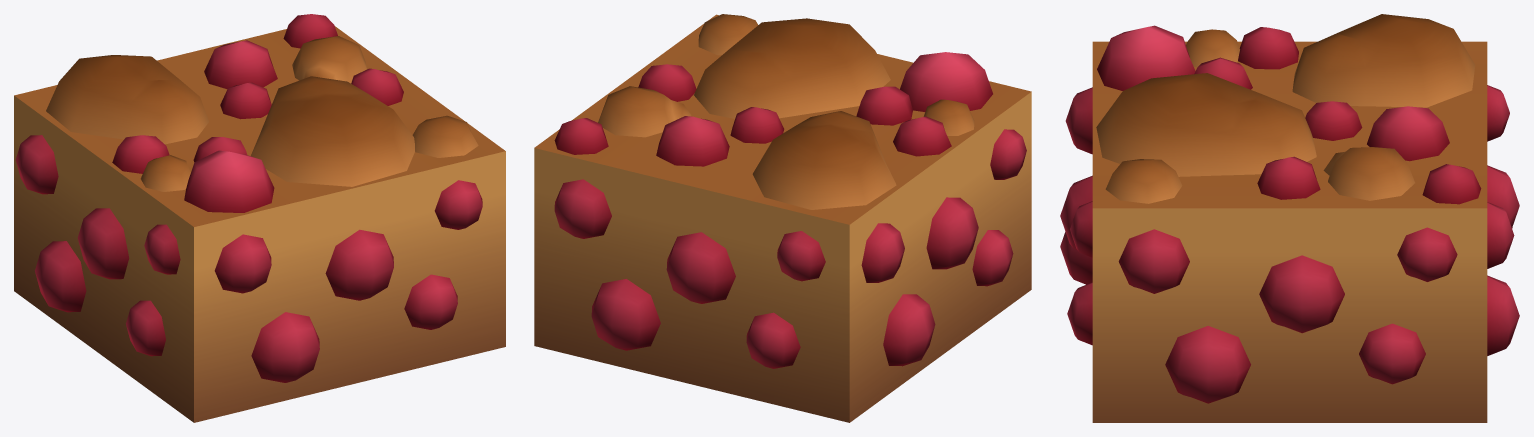
The model's file is m_SheetCake04_Slice03.fbx.
3 views of the same model, side by side, from view 1: azimuth 30°, elevation 25°; view 2: azimuth 150°, elevation 25°; view 3: azimuth 270°, elevation 25° (orthographic). The views are drawn at different scales.
Visible parts, largest first — view 1: m_SheetCake04_Slice03; view 2: m_SheetCake04_Slice03; view 3: m_SheetCake04_Slice03.
Part boxes in pixels (<box>): m_SheetCake04_Slice03: <box>14,14,505,422</box>; m_SheetCake04_Slice03: <box>534,14,1031,422</box>; m_SheetCake04_Slice03: <box>1060,14,1519,422</box>.
Size of the model in its own units: 11.65 by 7.57 by 11.65.
